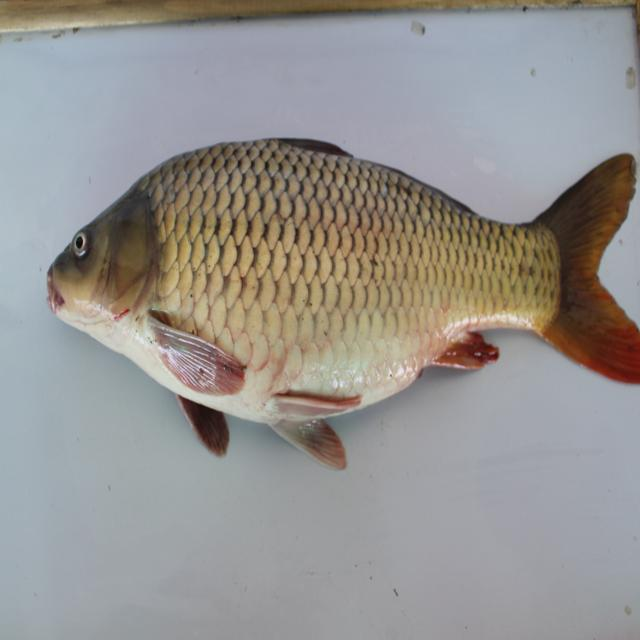CommonCarp: (41, 130, 640, 477)
